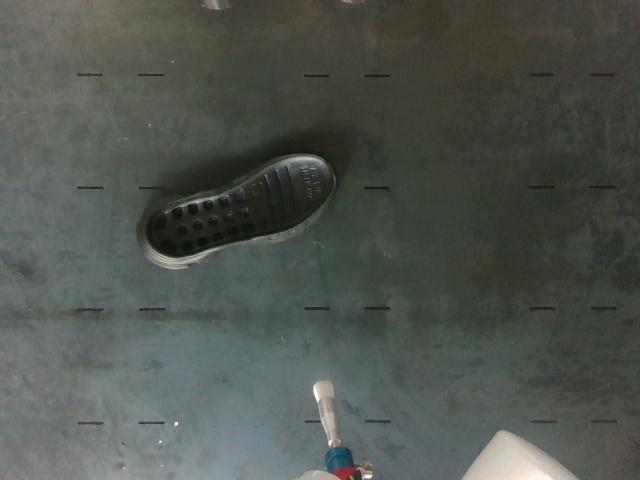shoes: (146, 156, 334, 257)
